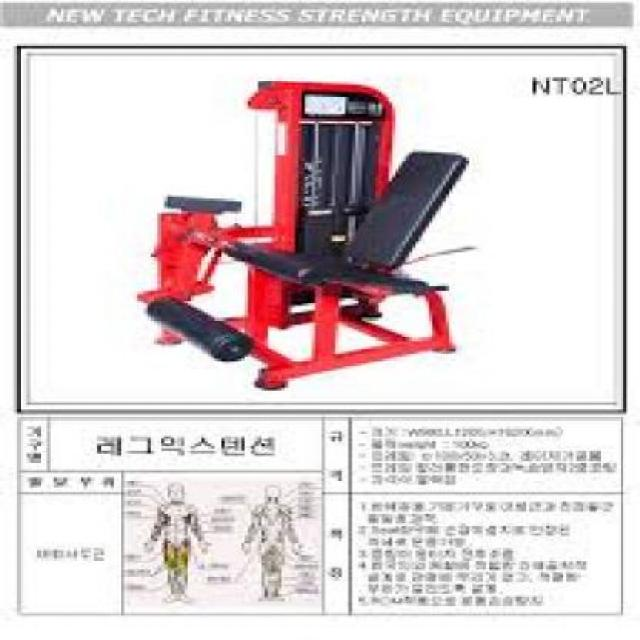leg extension: (125, 72, 488, 391)
